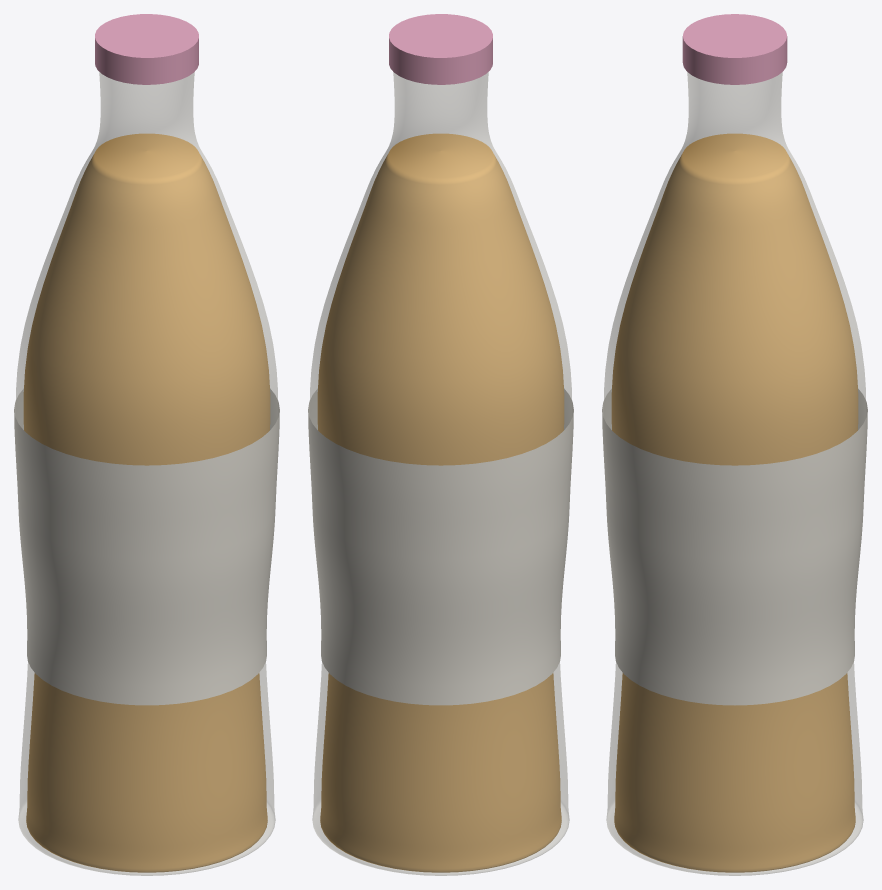
Rendered from te-hatsu.glb.
The picture shows the model from 3 angles, left to right: view 1: azimuth 30°, elevation 25°; view 2: azimuth 150°, elevation 25°; view 3: azimuth 270°, elevation 25°; orthographic projection.
Parts seen in each view (by area): view 1: vidrio, liquido, etiqueta, tapa; view 2: vidrio, liquido, etiqueta, tapa; view 3: vidrio, liquido, etiqueta, tapa.
Part boxes in pixels (<box>): vidrio: <box>15,72,278,875</box>; liquido: <box>23,133,270,872</box>; etiqueta: <box>14,389,279,705</box>; tapa: <box>95,14,198,84</box>; vidrio: <box>309,72,572,875</box>; liquido: <box>317,133,564,872</box>; etiqueta: <box>308,389,573,705</box>; tapa: <box>389,14,492,84</box>; vidrio: <box>603,72,866,875</box>; liquido: <box>611,133,858,872</box>; etiqueta: <box>602,389,867,705</box>; tapa: <box>682,14,787,84</box>.
Bounding box in the file's own units: 0.0627 × 0.2061 × 0.0627.
